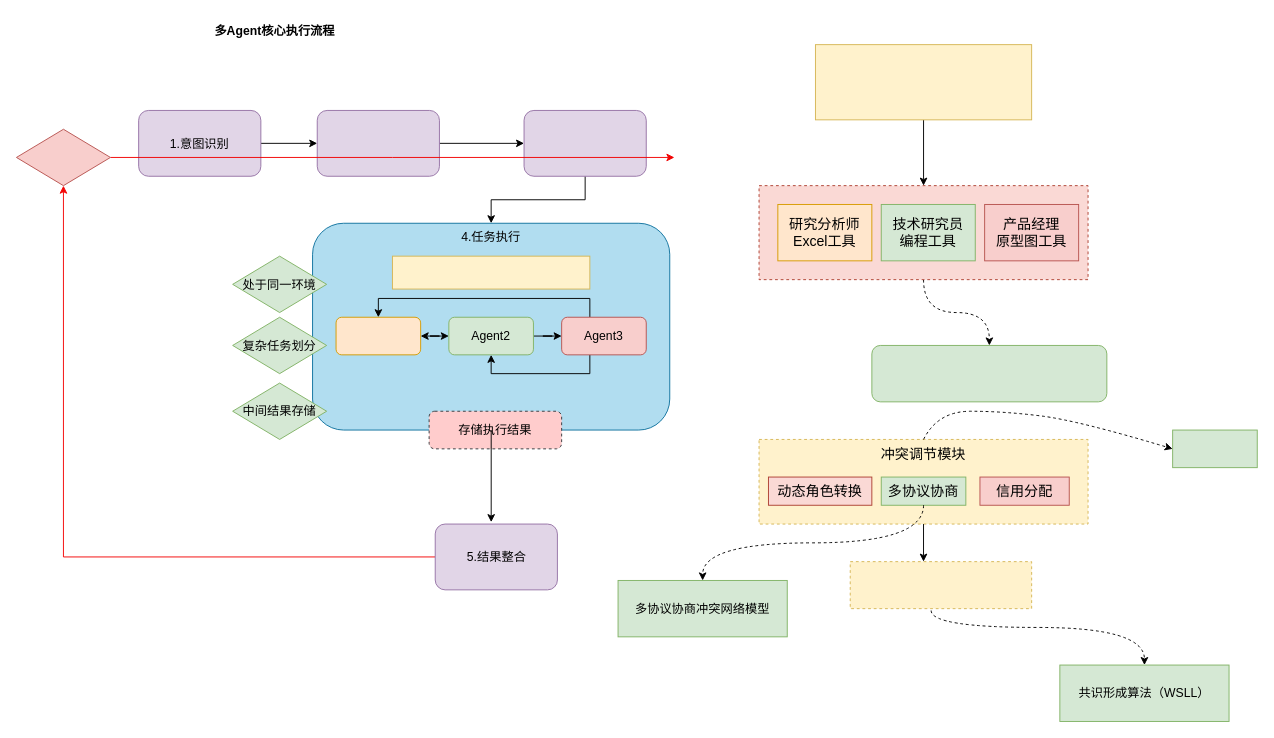
This 1274x738 diagram has some shape labels left out. Each missing label, with the centre of its shape:
"1.RoleSetting类：存储角色 2.RoleContext类：存储状态信息" goes at (989,373).
"2.任务初始化" goes at (377,143).
"3.任务规划" goes at (584,143).
"Agent1" goes at (378,335).
"共识形成模块" goes at (940,585).
"冲突调节模型" goes at (1214,448).
"基于能力和需求匹配的 角色分配算法" goes at (923,82).
"用户" goes at (63,157).
"结构化通信" goes at (491,272).
